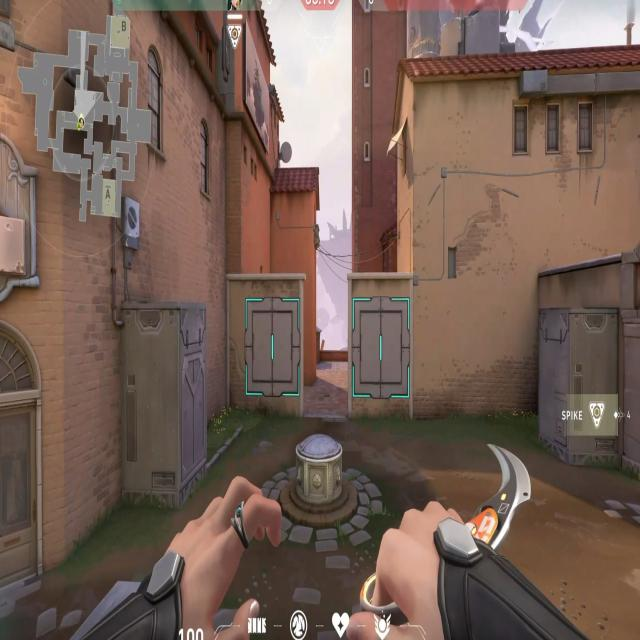Mid_Wall: (227, 272, 305, 413), (348, 270, 412, 420)
